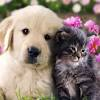cat: (52, 24, 90, 69)
dog: (1, 5, 66, 71)
